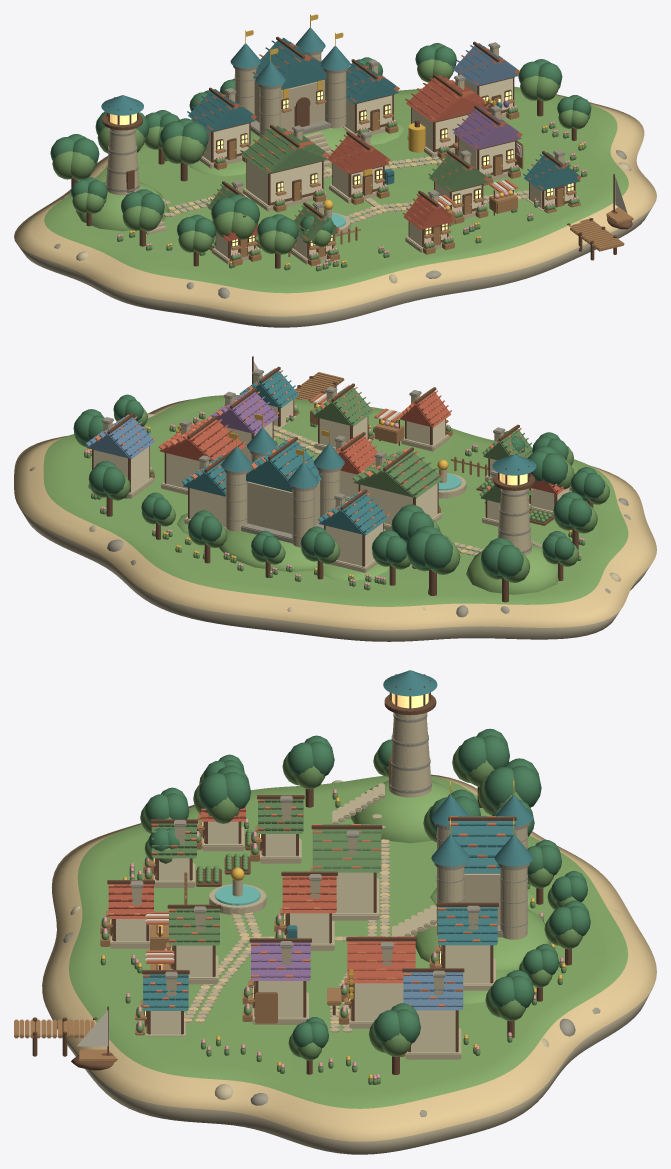
Rendered from island.glb.
The picture shows the model from 3 angles, top to bottom: view 1: azimuth 30°, elevation 25°; view 2: azimuth 150°, elevation 25°; view 3: azimuth 270°, elevation 25°; orthographic projection. The views are drawn at different scales.
Parts seen in each view (by area): view 1: landscape__cliff, landscape__leaf_light, landscape__leaf, keep__stone, keep__teal, landscape__grass, guild__green, workshop__roof, guild__cream, lighthouse__stone, atelier__purple, library__teal (+33 smaller); view 2: landscape__cliff, landscape__leaf, landscape__leaf_light, keep__stone, landscape__grass, keep__teal, guild__green, workshop__roof, library__teal, alchemy__blue, lighthouse__stone, atelier__purple (+23 smaller); view 3: landscape__cliff, landscape__leaf, landscape__leaf_light, landscape__grass, keep__stone, keep__teal, lighthouse__stone, landscape__stone, guild__green, workshop__roof, atelier__purple, treasury__teal (+30 smaller).
Part boxes in pixels (x1,y1,x2,y2): landscape__cliff: [14, 86, 656, 327]; landscape__leaf_light: [52, 59, 590, 271]; landscape__leaf: [50, 43, 591, 238]; keep__stone: [235, 53, 346, 167]; keep__teal: [230, 27, 350, 90]; landscape__grass: [75, 119, 404, 231]; guild__green: [240, 125, 328, 173]; workshop__roof: [405, 75, 489, 122]; guild__cream: [247, 159, 321, 204]; lighthouse__stone: [106, 128, 166, 234]; atelier__purple: [452, 106, 521, 149]; library__teal: [187, 89, 255, 131]; landscape__cliff: [14, 395, 656, 641]; landscape__leaf: [73, 394, 605, 577]; landscape__leaf_light: [74, 408, 609, 594]; keep__stone: [225, 454, 340, 547]; landscape__grass: [177, 513, 558, 594]; keep__teal: [221, 427, 344, 491]; guild__green: [352, 451, 443, 498]; workshop__roof: [158, 419, 245, 462]; library__teal: [318, 493, 388, 535]; alchemy__blue: [86, 417, 154, 458]; lighthouse__stone: [498, 489, 542, 555]; atelier__purple: [207, 392, 278, 433]; landscape__cliff: [42, 774, 656, 1154]; landscape__leaf: [144, 728, 590, 1048]; landscape__leaf_light: [100, 745, 582, 1084]; landscape__grass: [350, 780, 550, 1004]; keep__stone: [392, 827, 527, 939]; keep__teal: [431, 795, 532, 873]; lighthouse__stone: [332, 713, 431, 824]; landscape__stone: [70, 780, 619, 1099]; guild__green: [312, 824, 381, 872]; workshop__roof: [347, 936, 415, 983]; atelier__purple: [251, 942, 310, 980]; treasury__teal: [438, 907, 497, 945].
Size of the model in its own units: 30.26 by 7.03 by 22.35.
